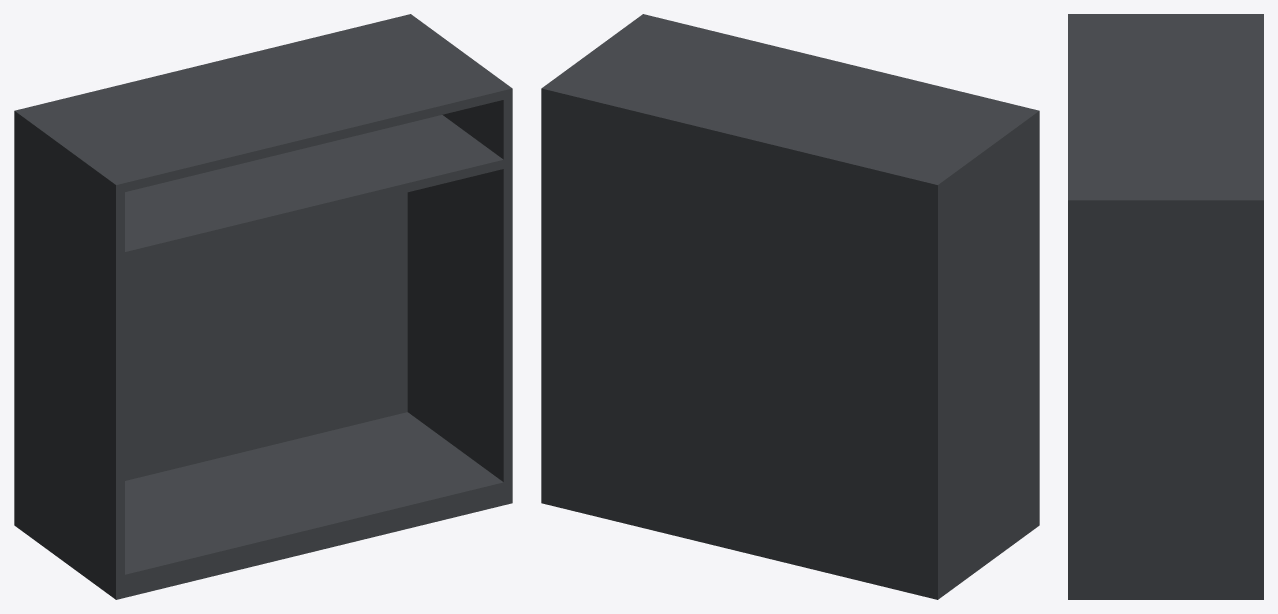
The model's file is Dresser2_C2.fbx.
The picture shows the model from 3 angles, left to right: view 1: azimuth 30°, elevation 25°; view 2: azimuth 150°, elevation 25°; view 3: azimuth 270°, elevation 25°; orthographic projection. The views are drawn at different scales.
Parts seen in each view (by area): view 1: Dresser2_C2; view 2: Dresser2_C2; view 3: Dresser2_C2.
Boxes of the visible parts, left/top/right/bottom form: Dresser2_C2: left=14, top=14, right=512, bottom=599; Dresser2_C2: left=541, top=14, right=1039, bottom=599; Dresser2_C2: left=1068, top=14, right=1263, bottom=599.
Size of the model in its own units: 90 by 90 by 40.
